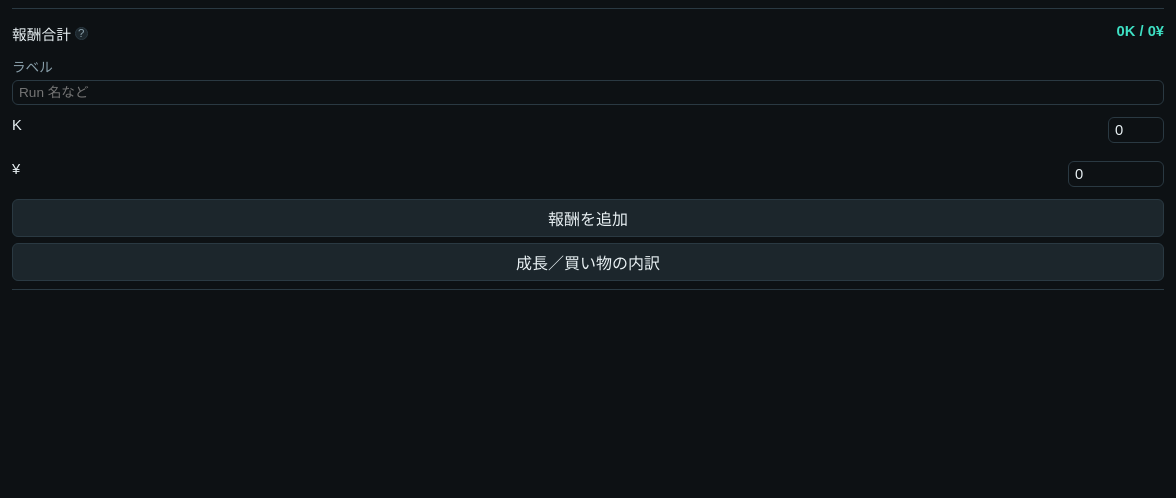
Test: <SidebarCareerRewards> › folds the breakdown away, and says なし for a side that has none
Expected: the text "カルマ消費" is not shown
Click the button "成長／買い物の内訳" at (588, 262), box [12,243,1164,281]
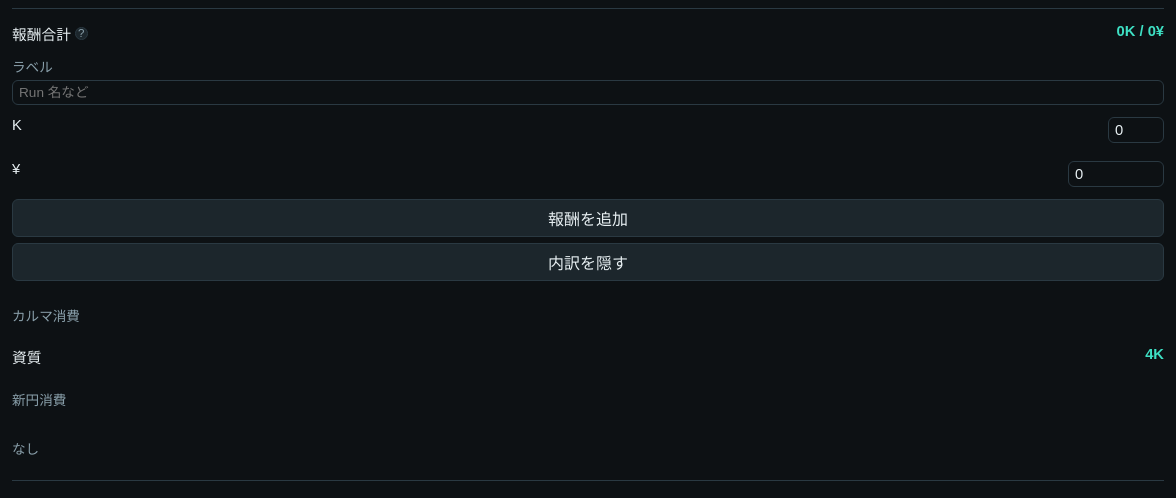
Now the text "カルマ消費" is shown, box [12,309,80,324]
Now the text "4K" is shown, box [1145,346,1164,367]
Now the text "なし" is shown, box [12,442,39,457]
Click the button "内訳を隠す" at (588, 262), box [12,243,1164,281]
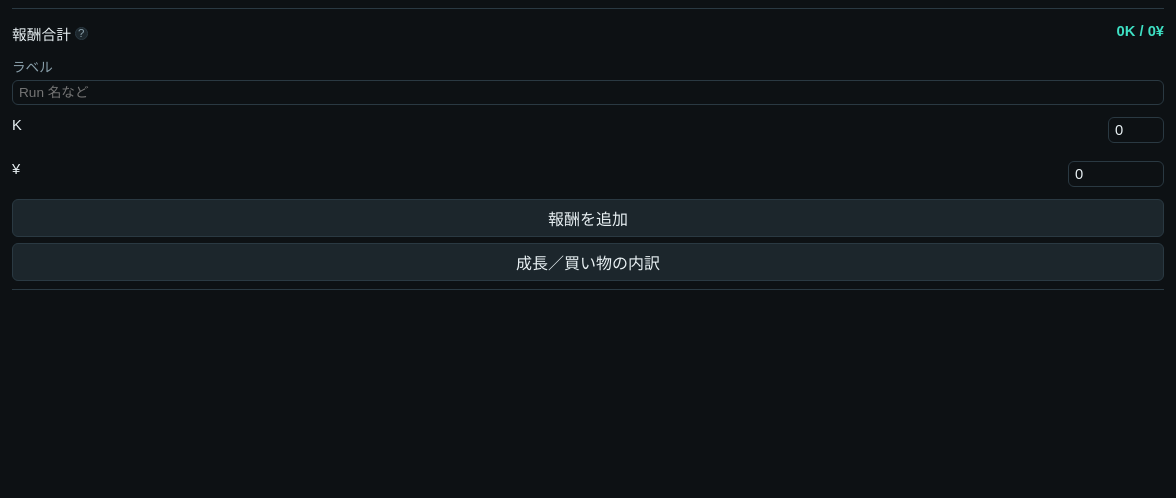
Now the text "カルマ消費" is gone
